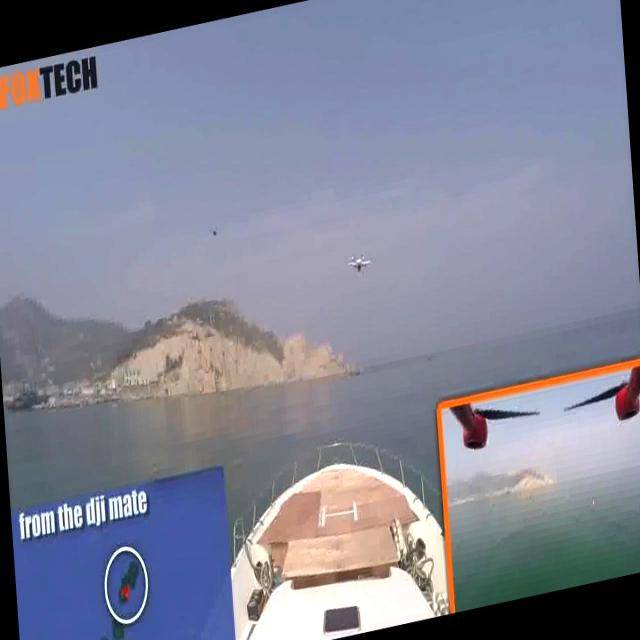drone: (342, 245, 377, 286), (208, 222, 222, 243)
